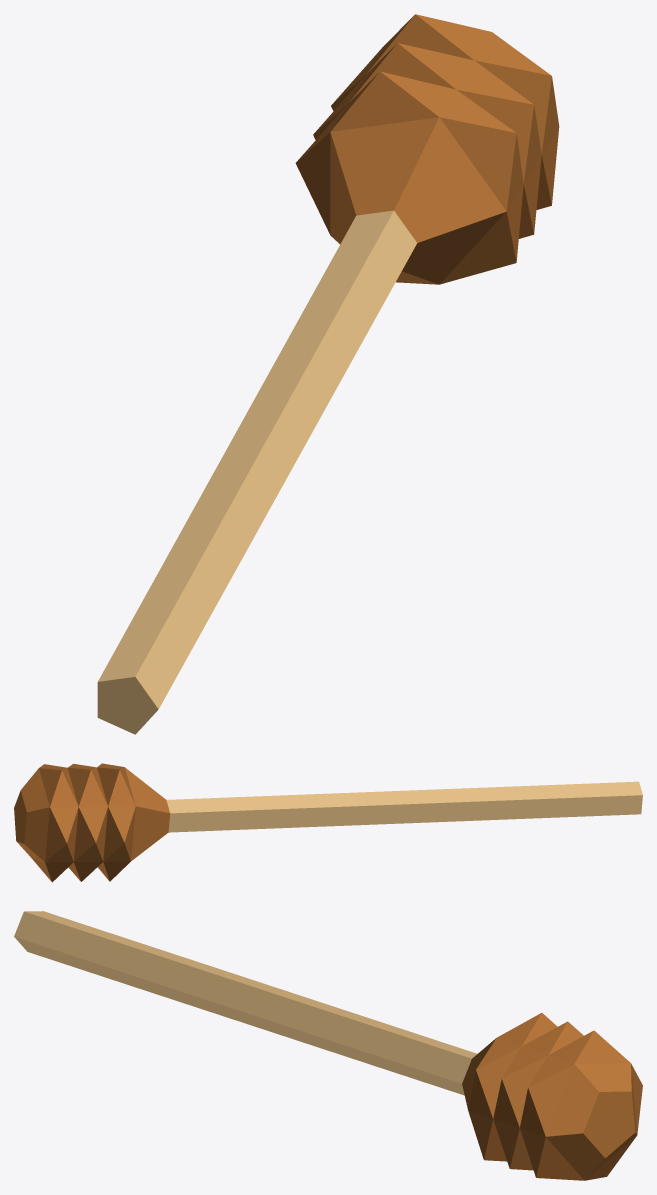
Rendered from copper_mace.glb.
3 views of the same model, one above another, from view 1: azimuth 30°, elevation 25°; view 2: azimuth 150°, elevation 25°; view 3: azimuth 270°, elevation 25° (orthographic). The views are drawn at different scales.
Visible parts, largest first — view 1: copper_mace; view 2: copper_mace; view 3: copper_mace.
Part boxes in pixels (x1,y1,x2,y2): copper_mace: (97,14,559,734); copper_mace: (14,763,642,882); copper_mace: (14,911,642,1180).
Bounding box in the file's own units: 0.5886 × 0.1524 × 0.5806.
